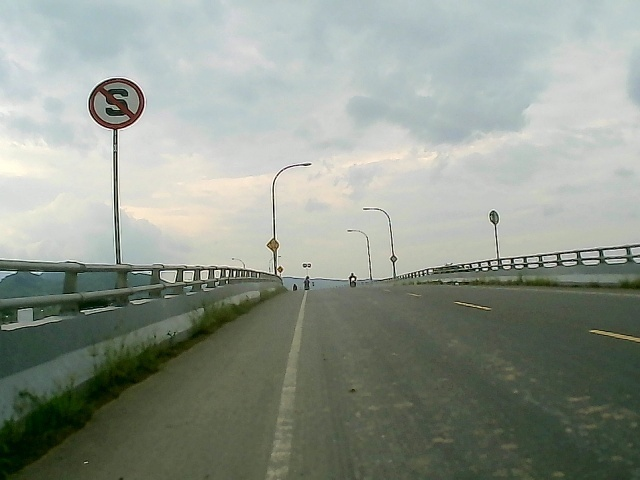Dilarang berhenti: (86, 74, 147, 134)
